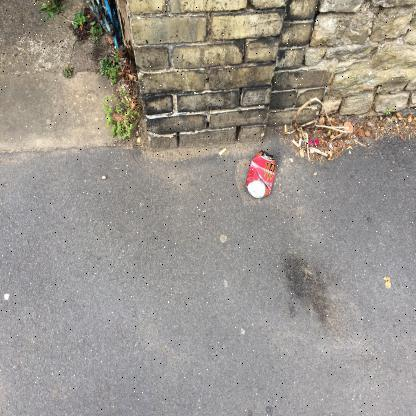metal: (246, 149, 276, 199)
